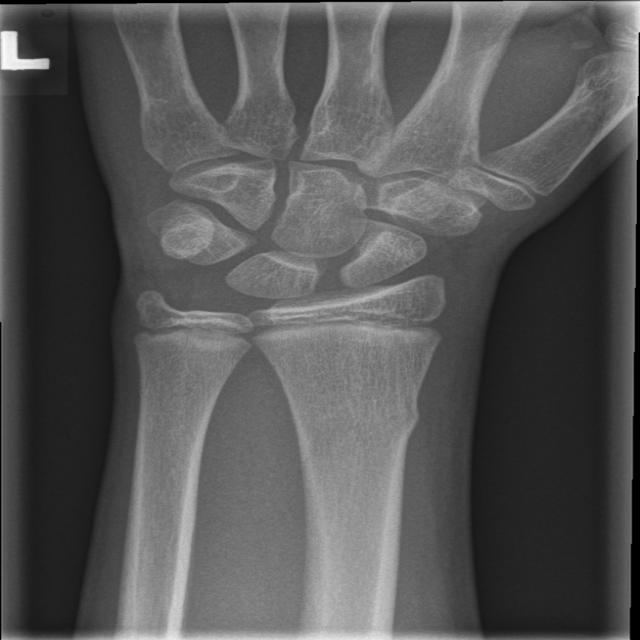radius fracture: (269, 379, 445, 456)
